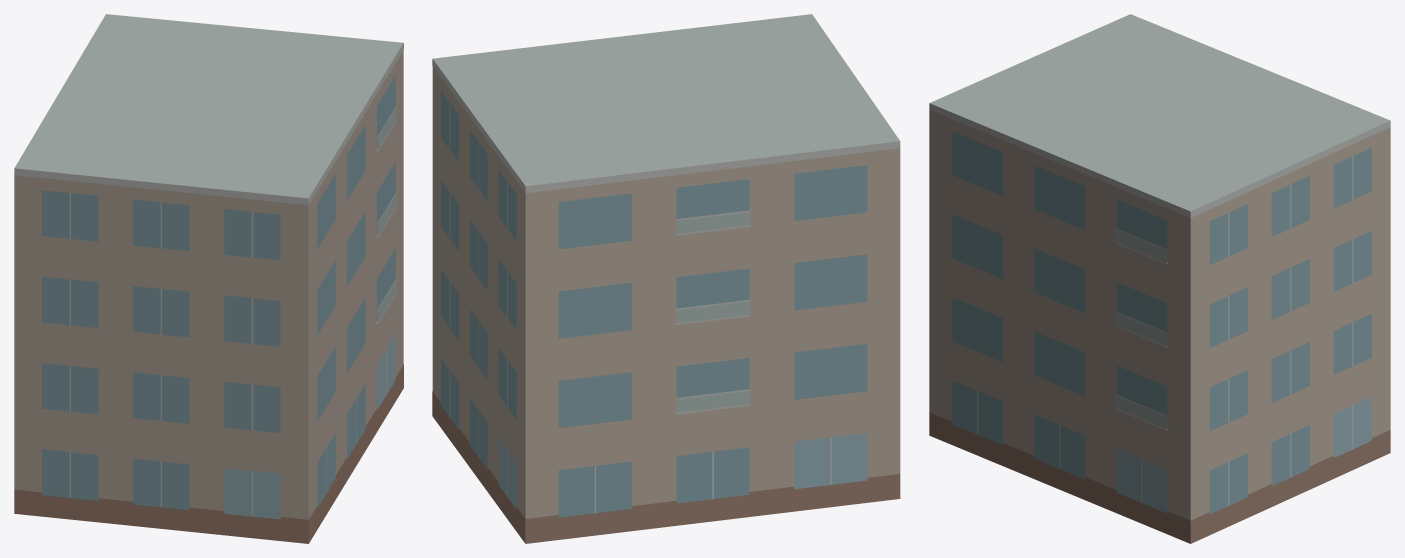
File: survey-upis-32883896.glb
3 renders of one model, left to right at view 1: azimuth 30°, elevation 25°; view 2: azimuth 150°, elevation 25°; view 3: azimuth 270°, elevation 25°, orthographic. The views are drawn at different scales.
Visible parts, largest first — view 1: survey-upis-32883896.tmp; view 2: survey-upis-32883896.tmp; view 3: survey-upis-32883896.tmp.
Part boxes in pixels (<box>): survey-upis-32883896.tmp: <box>14,14,403,543</box>; survey-upis-32883896.tmp: <box>432,14,900,543</box>; survey-upis-32883896.tmp: <box>929,14,1390,543</box>.
Size of the model in its own units: 15.81 by 12.4 by 15.6.
